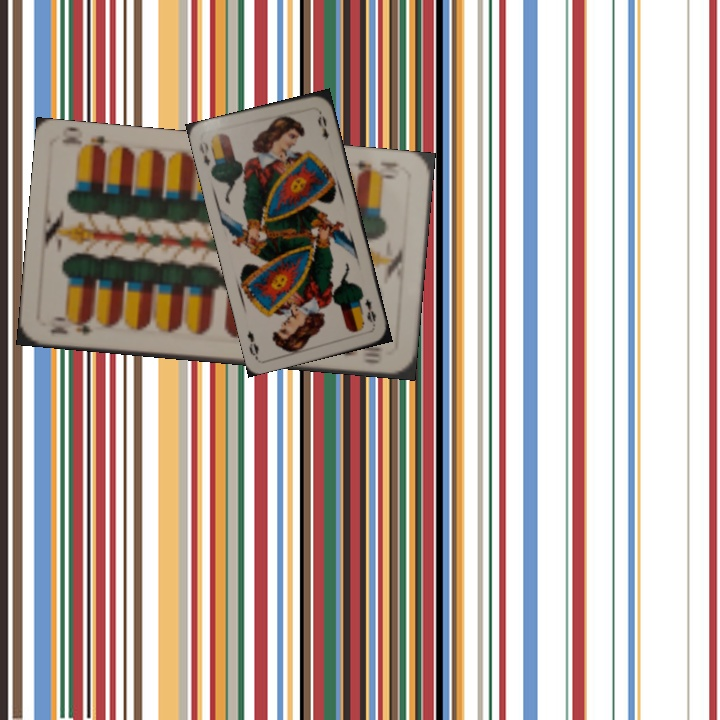E10: (348, 156, 402, 182), (45, 312, 96, 337)
EO: (360, 295, 379, 325), (195, 137, 213, 168)
